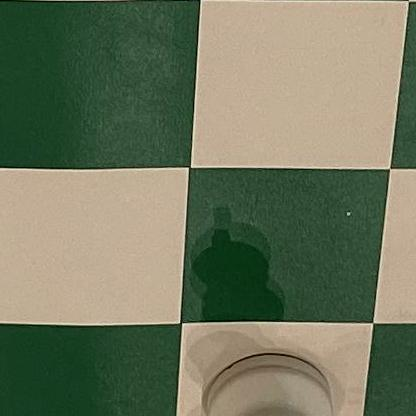white-king: (199, 352, 338, 416)
